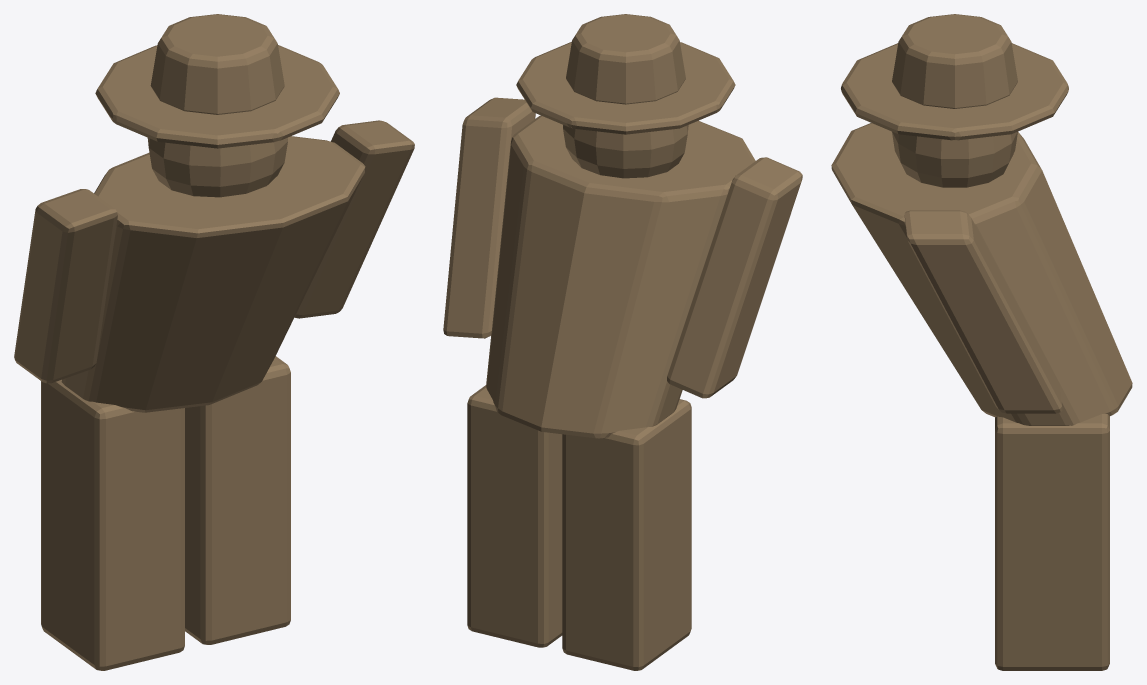
Rendered from chr-citizen-hunched.glb.
3 views of the same model, side by side, from view 1: azimuth 30°, elevation 25°; view 2: azimuth 150°, elevation 25°; view 3: azimuth 270°, elevation 25° (orthographic). The views are drawn at different scales.
Visible parts, largest first — view 1: VIS_torso, VIS_leg_l, VIS_leg_r, VIS_arm_l, VIS_hat_brim, VIS_hat_crown, VIS_arm_r, VIS_head; view 2: VIS_torso, VIS_leg_l, VIS_leg_r, VIS_arm_l, VIS_arm_r, VIS_hat_brim, VIS_hat_crown, VIS_head; view 3: VIS_torso, VIS_leg_r, VIS_arm_r, VIS_hat_brim, VIS_hat_crown, VIS_head.
Boxes of the visible parts, box(x1,y1,x2,y2) form: VIS_torso: box(61, 136, 365, 412); VIS_leg_l: box(41, 379, 184, 670); VIS_leg_r: box(185, 356, 290, 644); VIS_arm_l: box(14, 189, 117, 383); VIS_hat_brim: box(95, 45, 339, 148); VIS_hat_crown: box(150, 14, 284, 114); VIS_arm_r: box(294, 120, 414, 318); VIS_head: box(147, 138, 287, 197); VIS_torso: box(486, 115, 755, 438); VIS_leg_l: box(562, 399, 691, 670); VIS_leg_r: box(467, 385, 562, 647); VIS_arm_l: box(667, 157, 802, 398); VIS_arm_r: box(443, 97, 535, 338); VIS_hat_brim: box(516, 41, 735, 134); VIS_hat_crown: box(566, 14, 685, 104); VIS_head: box(563, 125, 688, 178); VIS_torso: box(831, 123, 1132, 425); VIS_leg_r: box(995, 414, 1109, 670); VIS_arm_r: box(904, 210, 1062, 413); VIS_hat_brim: box(841, 43, 1068, 140); VIS_hat_crown: box(892, 14, 1017, 108); VIS_head: box(892, 131, 1017, 187).
Bounding box in the file's own units: 0.8605 × 1.48 × 0.6795.
